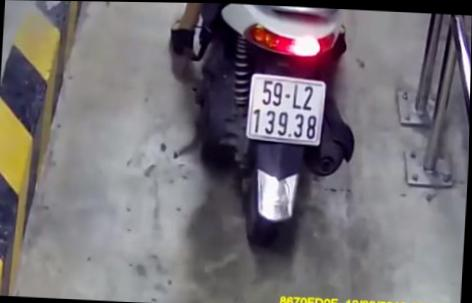LP: (247, 71, 328, 146)
